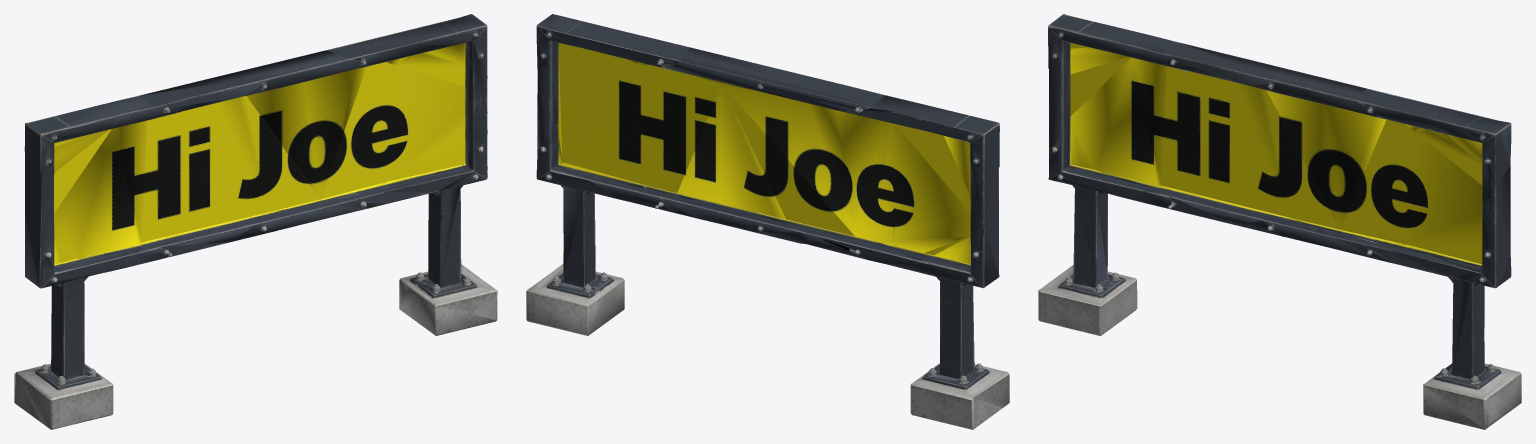
The model's file is hijoe.glb.
The picture shows the model from 3 angles, left to right: view 1: azimuth 30°, elevation 25°; view 2: azimuth 150°, elevation 25°; view 3: azimuth 330°, elevation 25°; orthographic projection.
Parts seen in each view (by area): view 1: output_unwrapped; view 2: output_unwrapped; view 3: output_unwrapped.
Part boxes in pixels (x1,y1,x2,y2): output_unwrapped: (14,14,497,429); output_unwrapped: (526,14,1009,429); output_unwrapped: (1038,14,1521,429).
Size of the model in its own units: 24.31 by 15 by 3.5.
1 material, 1 textured.
